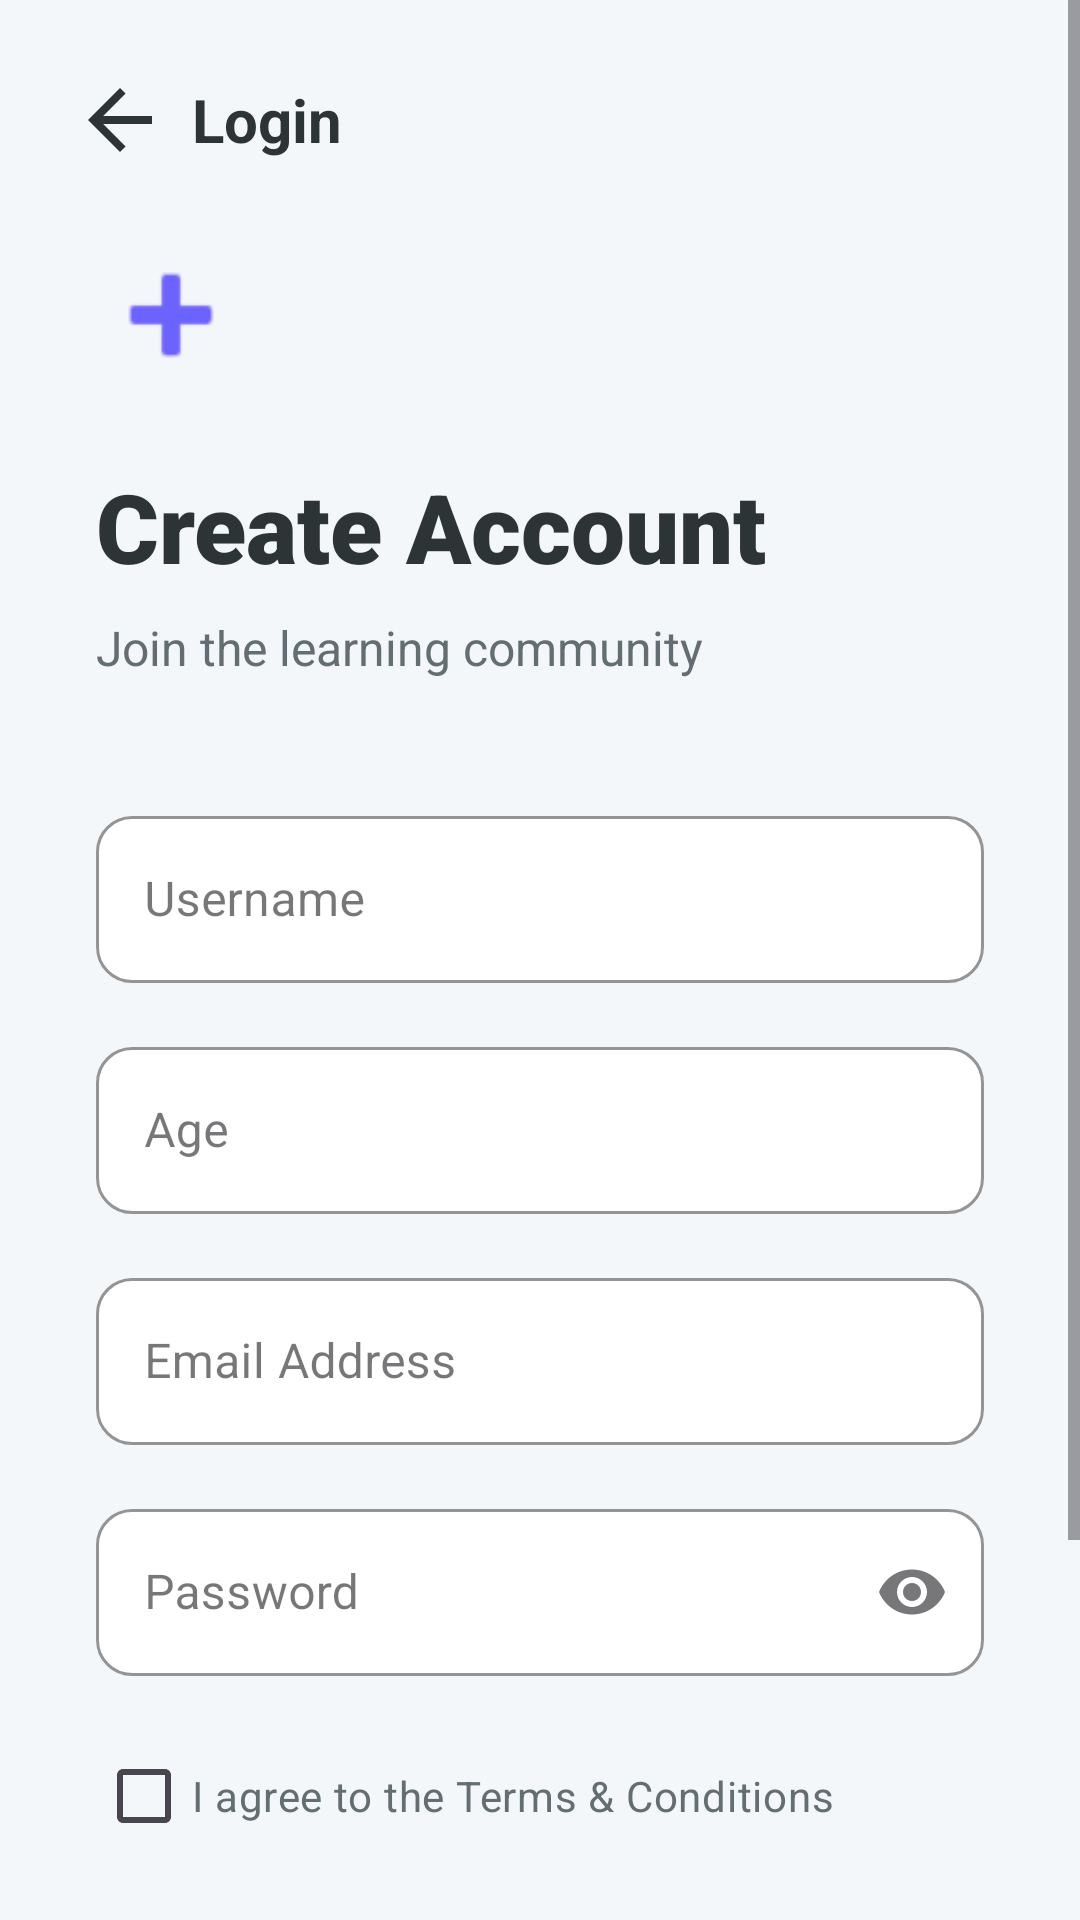

Locate icon controls on the screen. Image size 1080w x 1920h, boxes as (x1, y1, x2, y2).
add: (129, 273, 213, 357)
